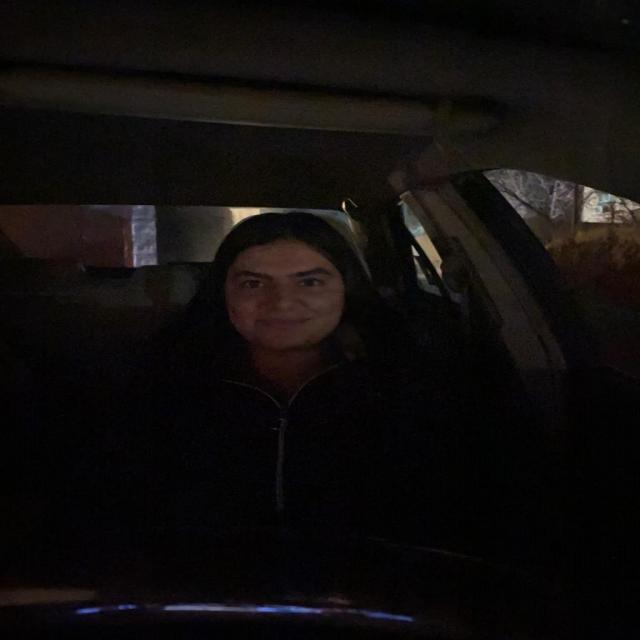person: (209, 204, 361, 360)
